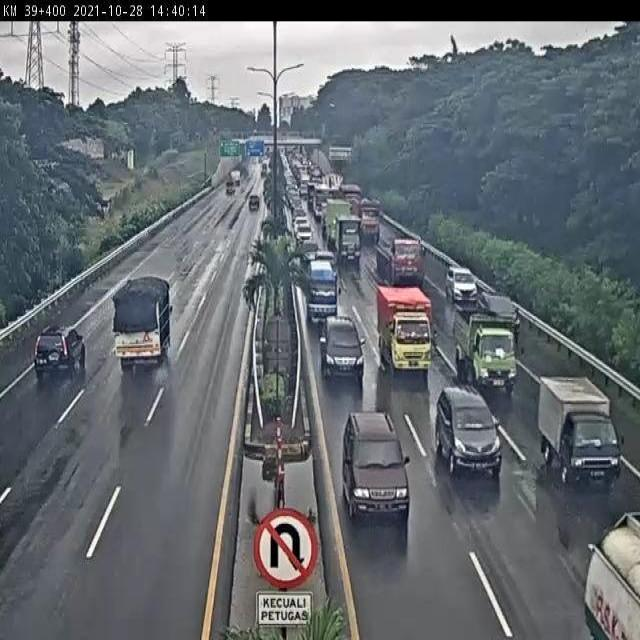Car: (332, 408, 418, 524), (434, 387, 502, 480), (319, 316, 367, 384), (33, 324, 85, 379), (446, 266, 478, 308), (244, 188, 267, 214)
Truck: (535, 364, 631, 492), (565, 505, 640, 640), (105, 275, 183, 372), (376, 281, 436, 381), (376, 234, 426, 283), (326, 200, 363, 262), (352, 196, 387, 243)
Van: (300, 259, 342, 325)
